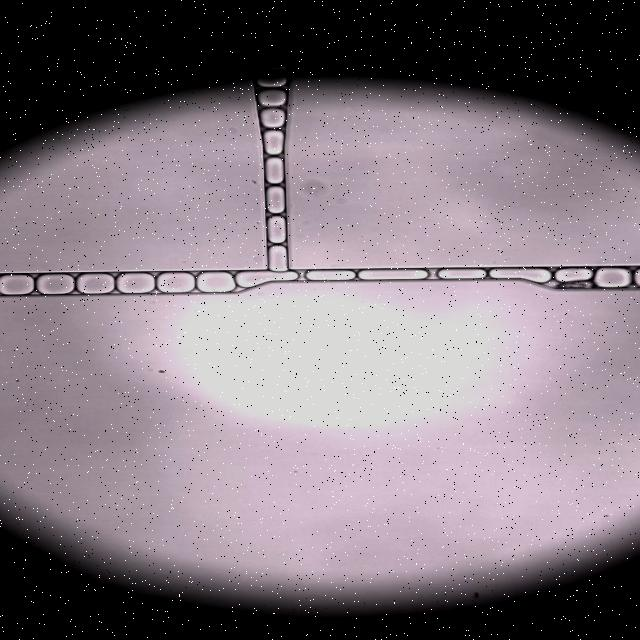L: (257, 89, 286, 107), (555, 268, 592, 282), (267, 216, 286, 243), (267, 186, 285, 214), (256, 72, 287, 88), (259, 109, 285, 128), (306, 270, 355, 280), (264, 130, 283, 155), (268, 246, 287, 271), (438, 269, 485, 279), (266, 158, 283, 184), (260, 62, 288, 70), (634, 269, 640, 286)
S: (236, 272, 297, 287), (490, 269, 550, 283), (77, 273, 115, 294), (36, 274, 74, 294), (116, 273, 154, 293), (197, 273, 235, 292), (0, 274, 34, 295), (594, 268, 631, 287), (358, 270, 427, 280), (157, 273, 193, 292)
